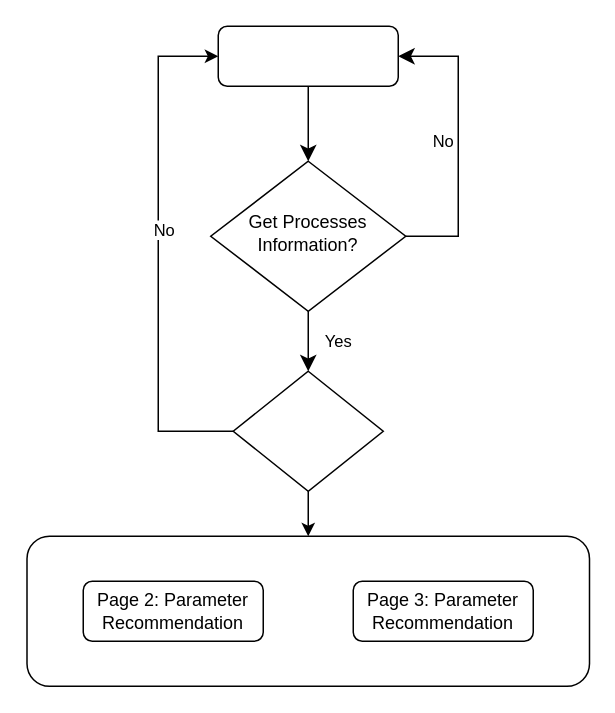
Image size: 615x713. Some labels were removed from this diagram. The shapes that lost their labels are listed below. From the top down, each one's centre as x and y in pixels, then its label:
[307,55]: Page1: Data Input
[307,430]: Upload Data Set?
